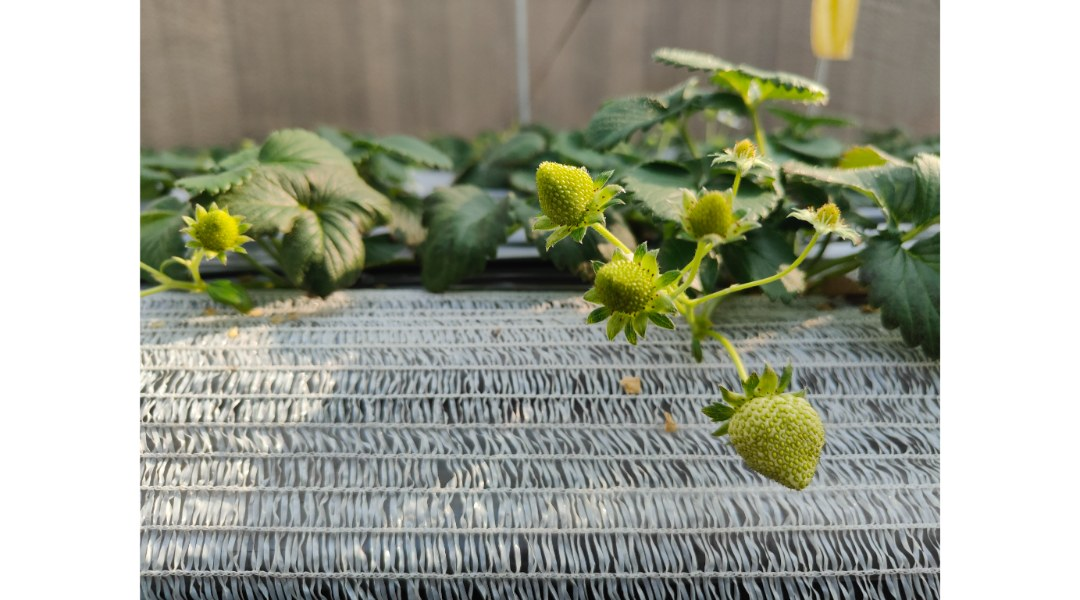berry: (703, 364, 836, 495), (581, 242, 679, 348), (522, 150, 629, 247), (173, 191, 264, 274), (668, 174, 758, 248), (787, 197, 868, 249), (703, 134, 775, 184)
strain: (691, 243, 810, 308), (711, 333, 754, 388), (599, 225, 637, 265)
